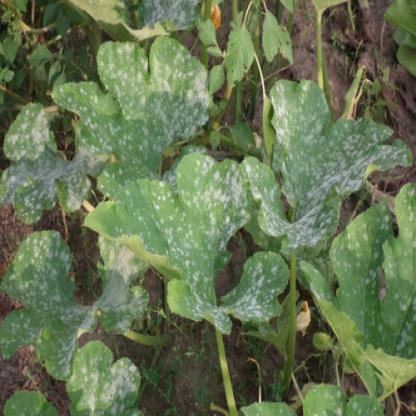Squash Powdery mildew leaf: (93, 149, 290, 327), (1, 32, 214, 184), (244, 70, 409, 259)
